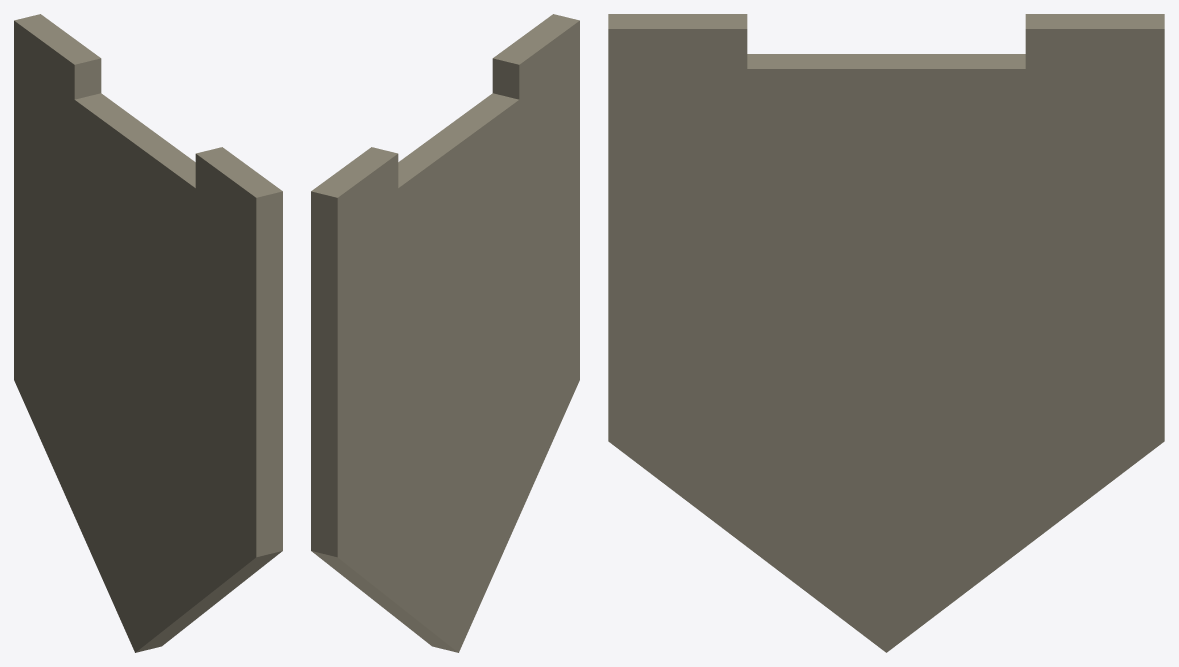
Rendered from flagBannerShort.glb.
3 renders of one model, left to right at view 1: azimuth 30°, elevation 25°; view 2: azimuth 150°, elevation 25°; view 3: azimuth 270°, elevation 25°, orthographic. The views are drawn at different scales.
Parts seen in each view (by area): view 1: mesh_0, mesh_1; view 2: mesh_0, mesh_1; view 3: mesh_0, mesh_1.
Boxes of the visible parts, left/top/right/bottom form: mesh_0: left=14, top=14, right=282, bottom=652; mesh_1: left=74, top=93, right=195, bottom=652; mesh_0: left=311, top=14, right=579, bottom=652; mesh_1: left=398, top=93, right=519, bottom=652; mesh_0: left=608, top=14, right=1164, bottom=546; mesh_1: left=747, top=54, right=1025, bottom=652.
Size of the model in its own units: 0.4 by 7.8 by 6.3.
